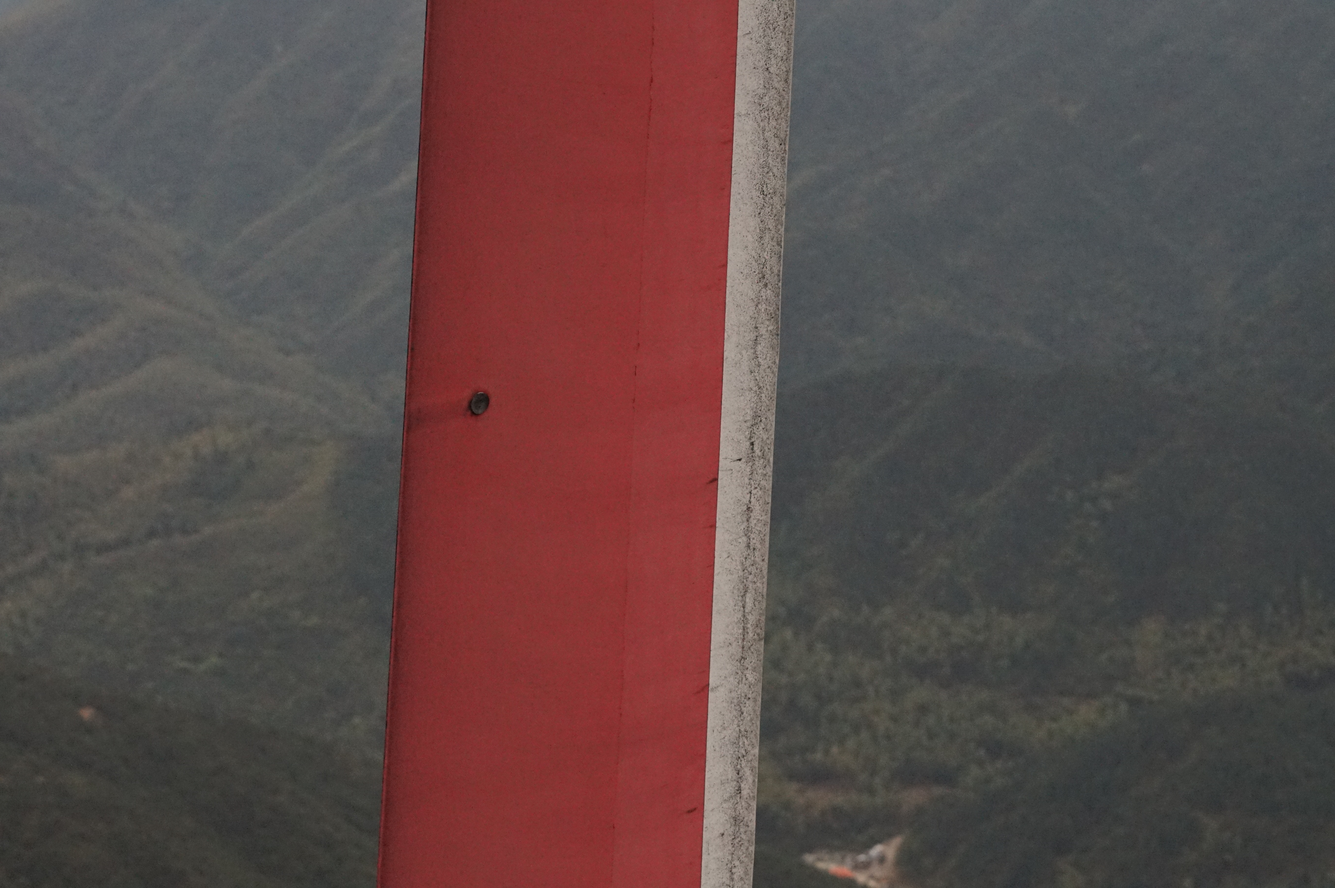Damage: (466, 388, 493, 420)
